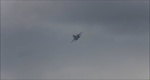maybay_muctieu: (71, 32, 82, 42)
